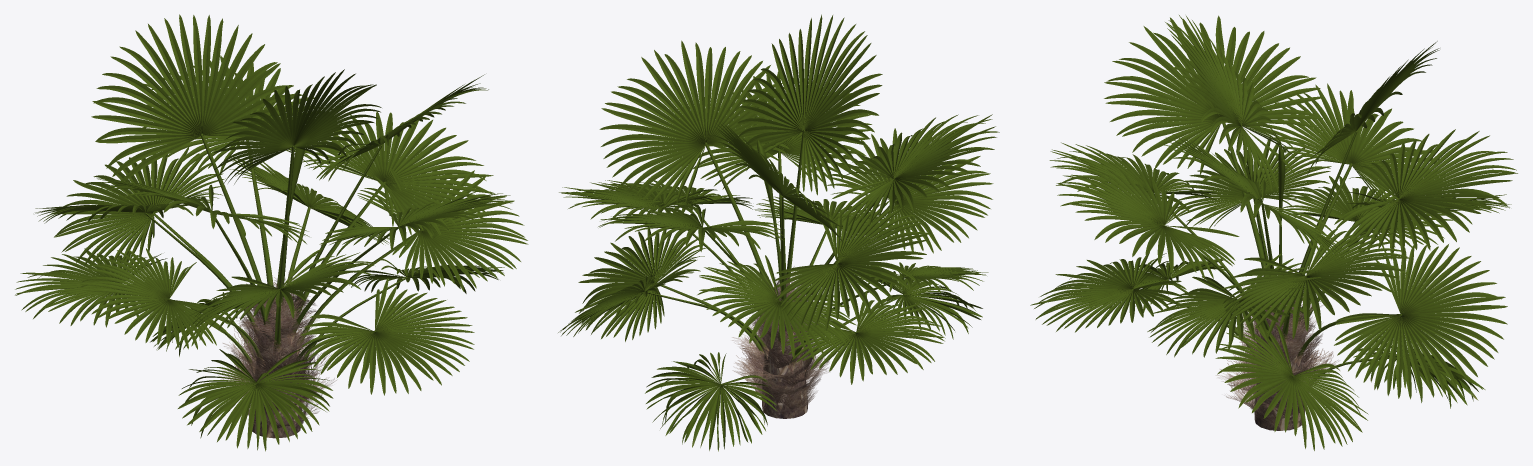
The model's file is realistic_hd_windmill_palm_1625.glb.
3 views of the same model, side by side, from view 1: azimuth 30°, elevation 25°; view 2: azimuth 150°, elevation 25°; view 3: azimuth 270°, elevation 25° (orthographic). The views are drawn at different scales.
Visible parts, largest first — view 1: Trachycarpus_fortunei_HD; view 2: Trachycarpus_fortunei_HD; view 3: Trachycarpus_fortunei_HD.
Boxes of the visible parts, x1=… form: Trachycarpus_fortunei_HD: x1=15, y1=14, x2=528, y2=451; Trachycarpus_fortunei_HD: x1=558, y1=14, x2=999, y2=451; Trachycarpus_fortunei_HD: x1=1030, y1=15, x2=1517, y2=450.
Bounding box in the file's own units: 1.46 × 1.28 × 1.44.
Materials: 7 (7 with a texture image).
